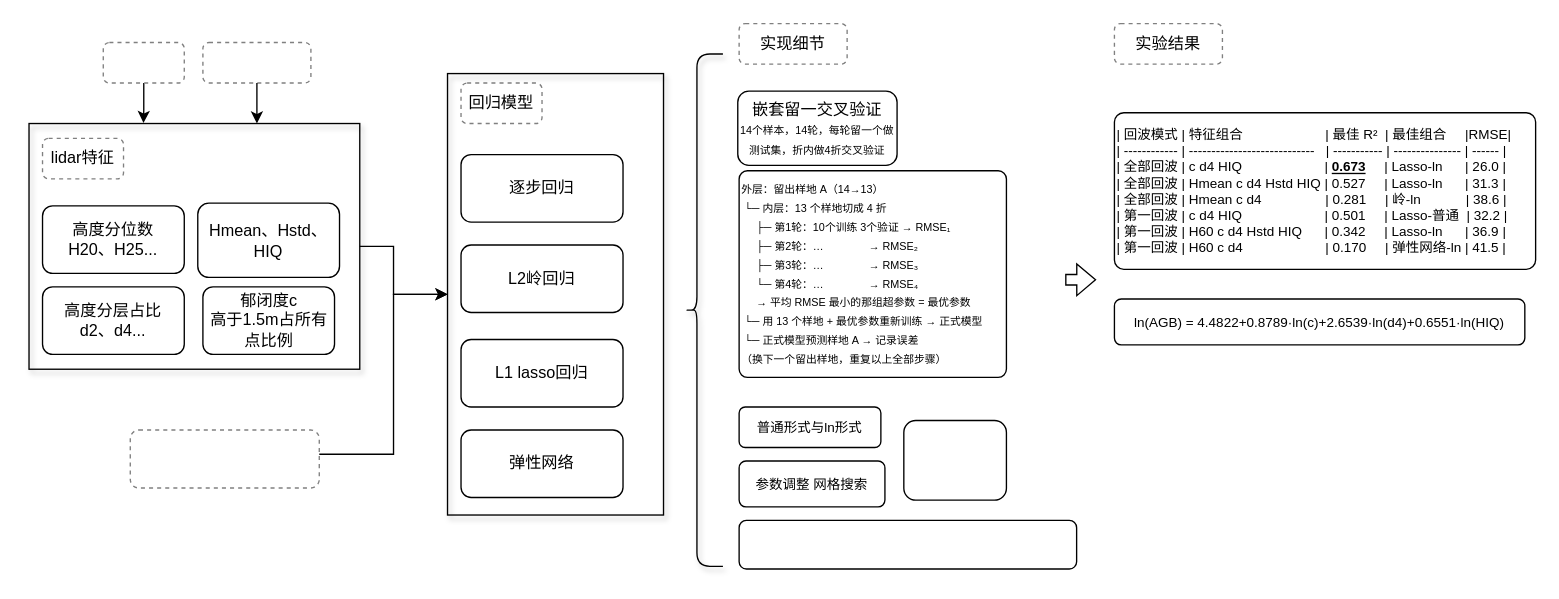
Some shapes in this 1559 by 599 pixel diagram are drawn without their labels. Here are the shapes that lost their labels. From the top down, the centre of each, then its label:
the point at 143,62: 回波模式
the point at 256,62: 1.5m高度阈值
the point at 224,458: 异速生长方程计算生物量
the point at 954,459: 系数标准化 训练集内 减均值除标准差
the point at 907,544: 用 14 个样地 + CV 选定的超参数 ，重新训练一次； 得到的回归系数/式子用于实际反演。
